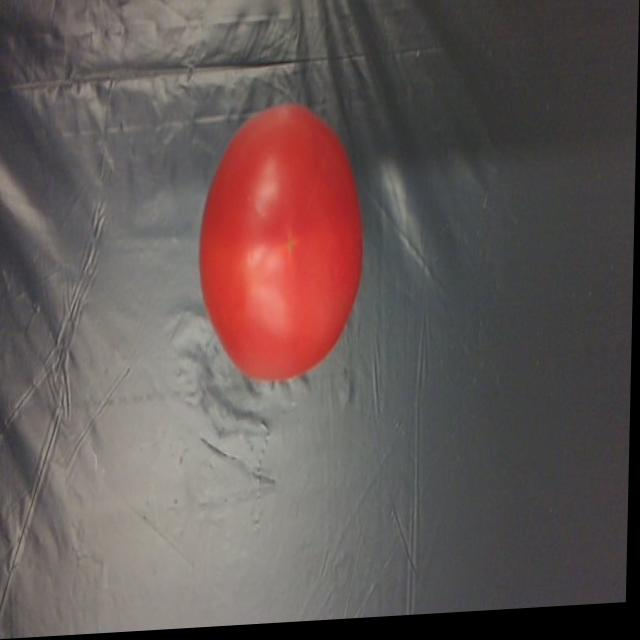kirmizi: (203, 102, 375, 403)
